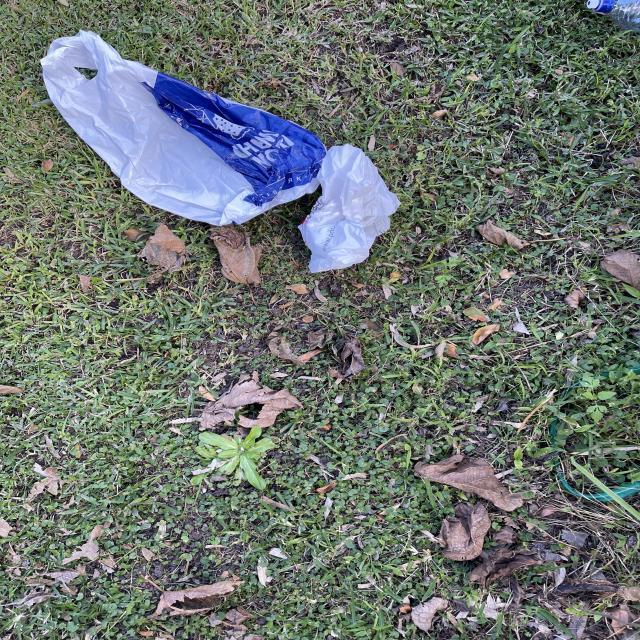bag: (38, 24, 324, 224), (300, 144, 404, 273)
